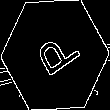P_SW: (28, 26, 82, 84)
